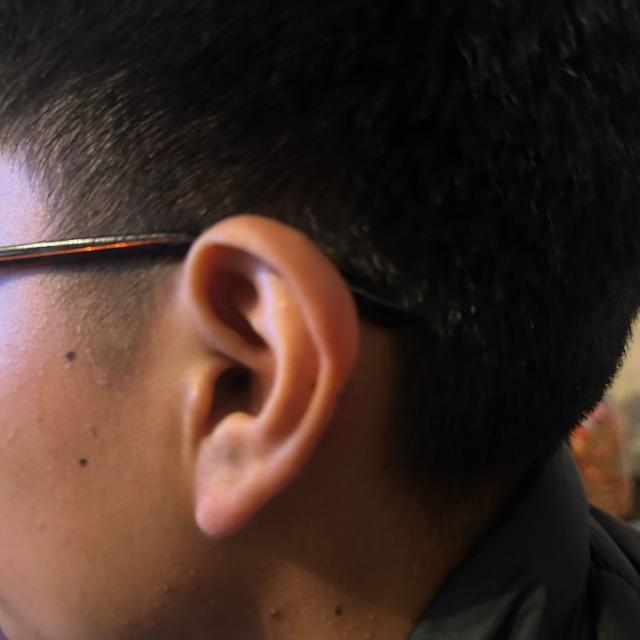ear: (161, 215, 359, 537)
